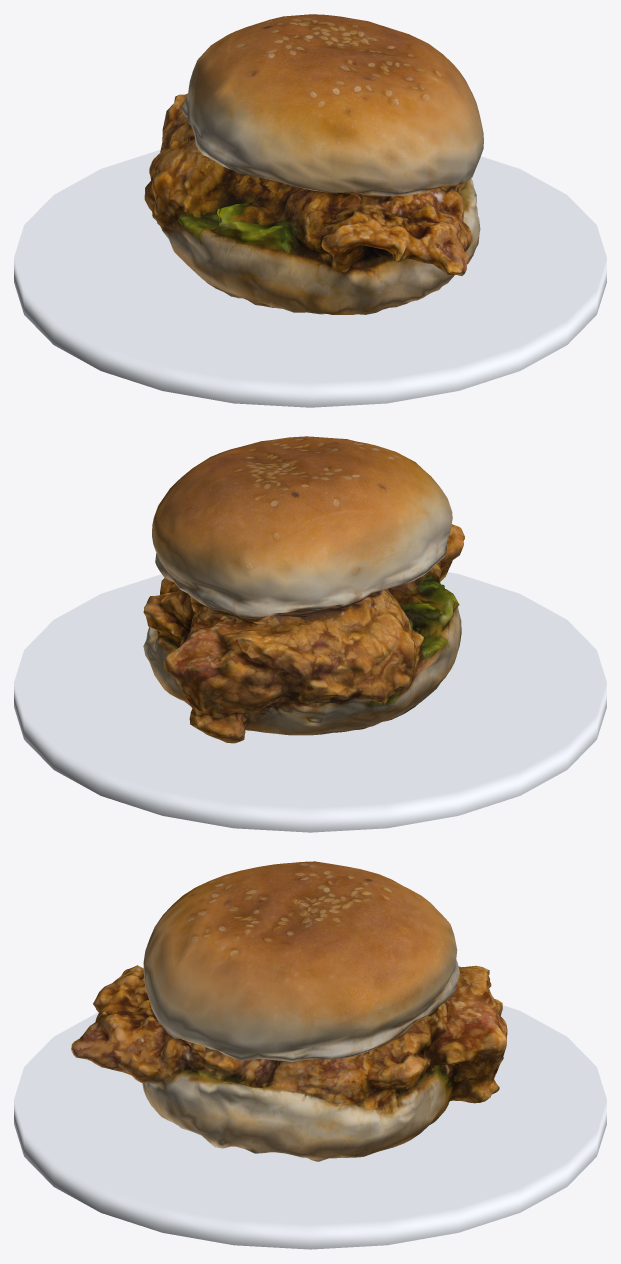
Rendered from burger_tyt3ex.glb.
3 views of the same model, one above another, from view 1: azimuth 30°, elevation 25°; view 2: azimuth 150°, elevation 25°; view 3: azimuth 270°, elevation 25° (orthographic).
Visible parts, largest first — view 1: Burger:pDisc2; view 2: Burger:pDisc2; view 3: Burger:pDisc2.
Part boxes in pixels (bbox=[...]): Burger:pDisc2: bbox=[14, 14, 606, 407]; Burger:pDisc2: bbox=[14, 436, 606, 832]; Burger:pDisc2: bbox=[14, 861, 606, 1249].
Bounding box in the file's own units: 2 × 0.8966 × 2.
Materials: 1 (1 with a texture image).
